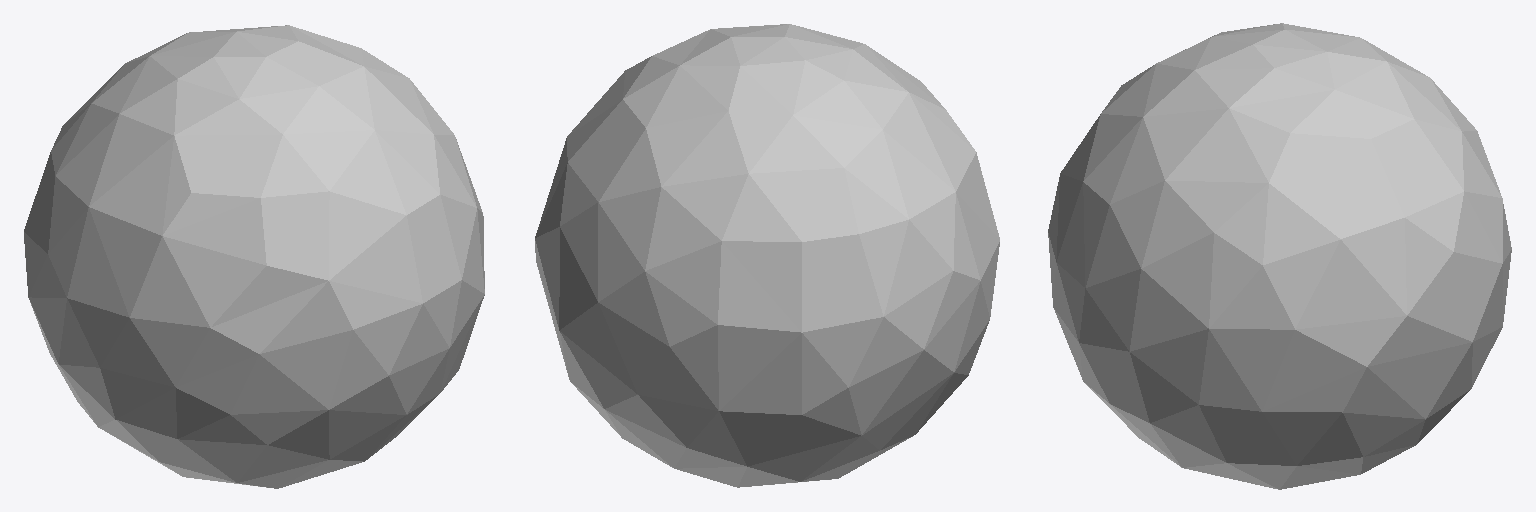
The model's file is less_sphere.obj.
3 renders of one model, left to right at view 1: azimuth 30°, elevation 25°; view 2: azimuth 150°, elevation 25°; view 3: azimuth 270°, elevation 25°, orthographic.
Parts seen in each view (by area): view 1: Sphere; view 2: Sphere; view 3: Sphere.
Part boxes in pixels (left/top/right/bottom): Sphere: left=24, top=25, right=484, bottom=488; Sphere: left=535, top=24, right=999, bottom=487; Sphere: left=1048, top=23, right=1511, bottom=489.
Size of the model in its own units: 0.0512 by 0.0511 by 0.0512.